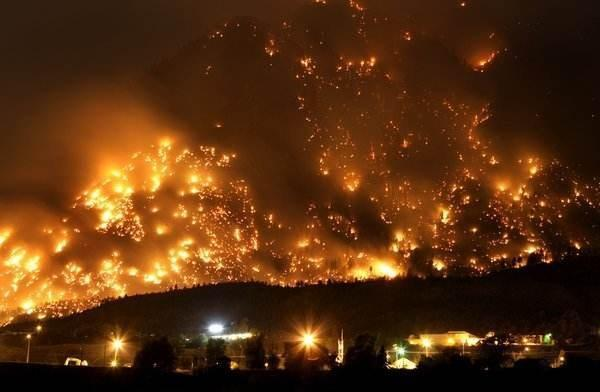fire: (22, 8, 583, 313)
